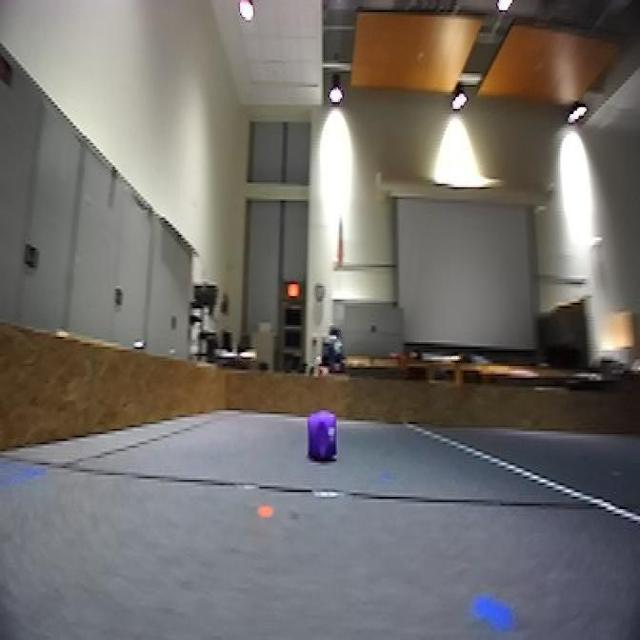frc_cube: (307, 412, 340, 468)
